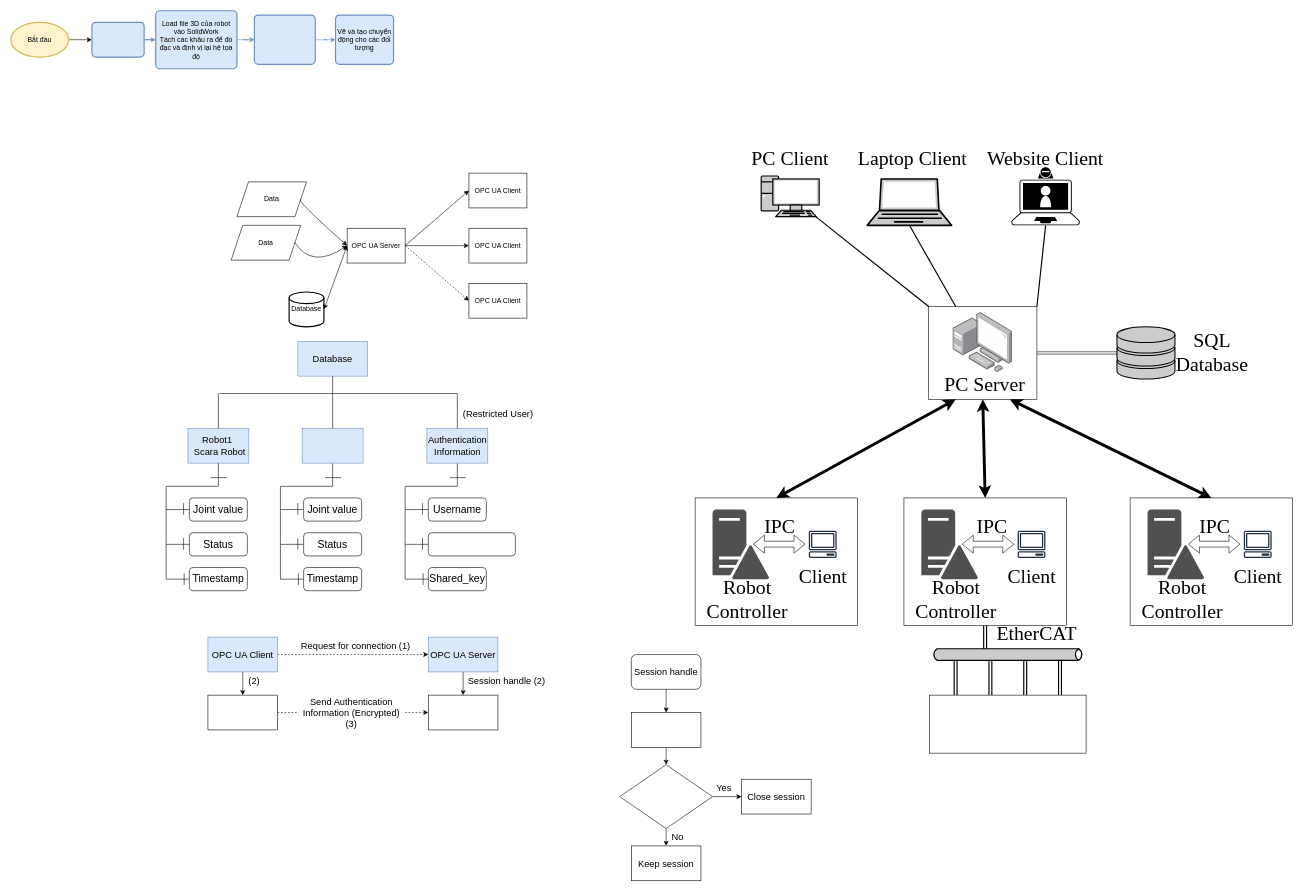
Some shapes in this 1303 by 891 pixel diagram are drawn without their labels. The centre of each missing label's shape, as x and y in pixels:
Authentication Successful ?: (666,796)
Khởi tạo môi trường cho Open GL: (117,39)
Listen to specific port: (666,729)
Load file 3D của Robot vào Qt Creator với định dạng *.STL: (284,39)
Password_hash: (471,544)
ROBOT: (1007,724)
Robot 2 Delta Robot: (332,445)
Socket Client: (242,712)
Socket Server: (463,712)
